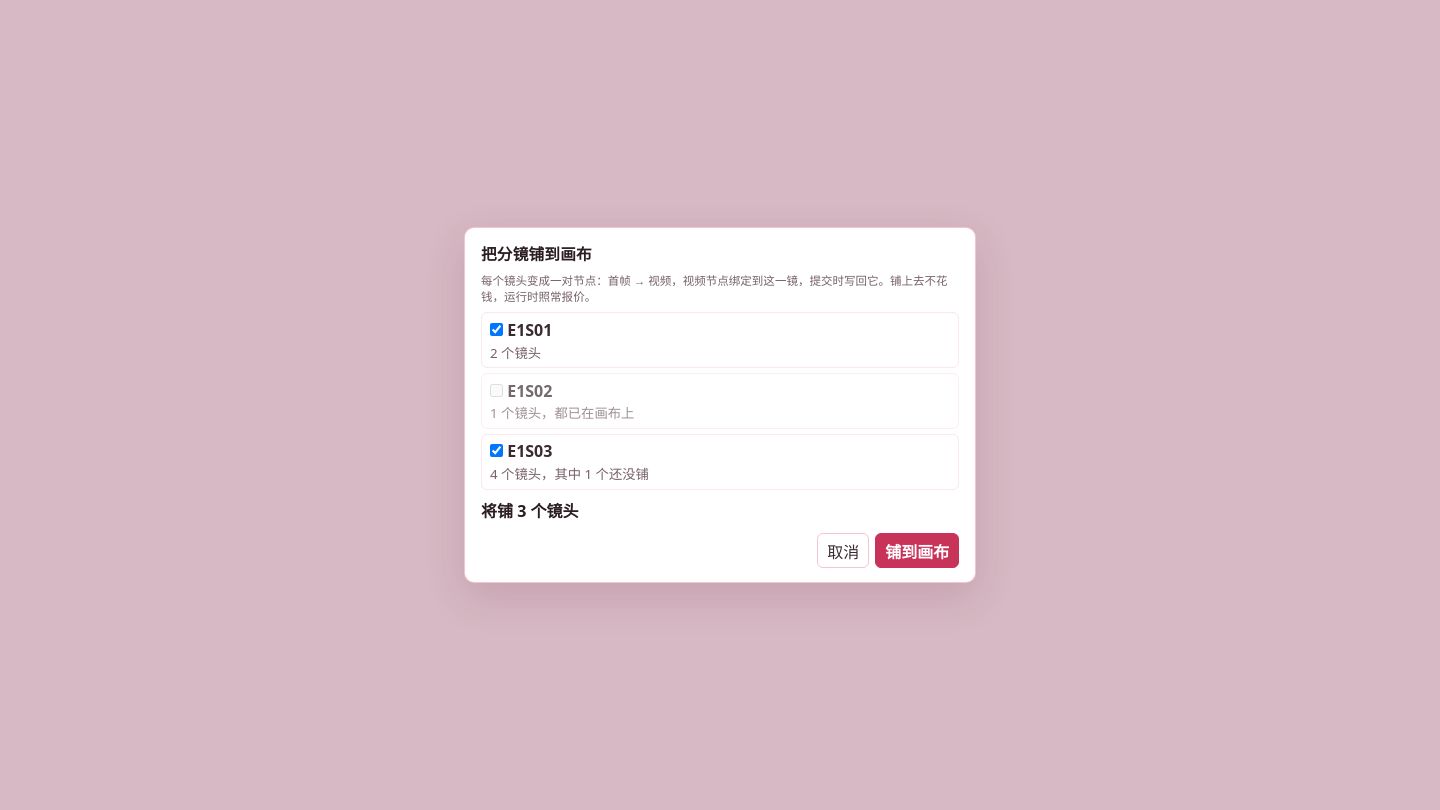
Test: laying the storyboard out on the canvas › lists the scenes, picks the ones with shots still to lay out, and applies on the saved version
This screenshot has width=1440, height=810.
Check: the text "E1S01" is shown, box x1=507 y1=319 x2=552 y2=341
Check: the text "1 个镜头，都已在画布上" is shown, box x1=490 y1=404 x2=634 y2=422
What coordinates should you click on to do the following:
click the checkbox labelled "E1S03"
I would click on:
 (496, 451)
Its box is x1=490 y1=444 x2=503 y2=457.
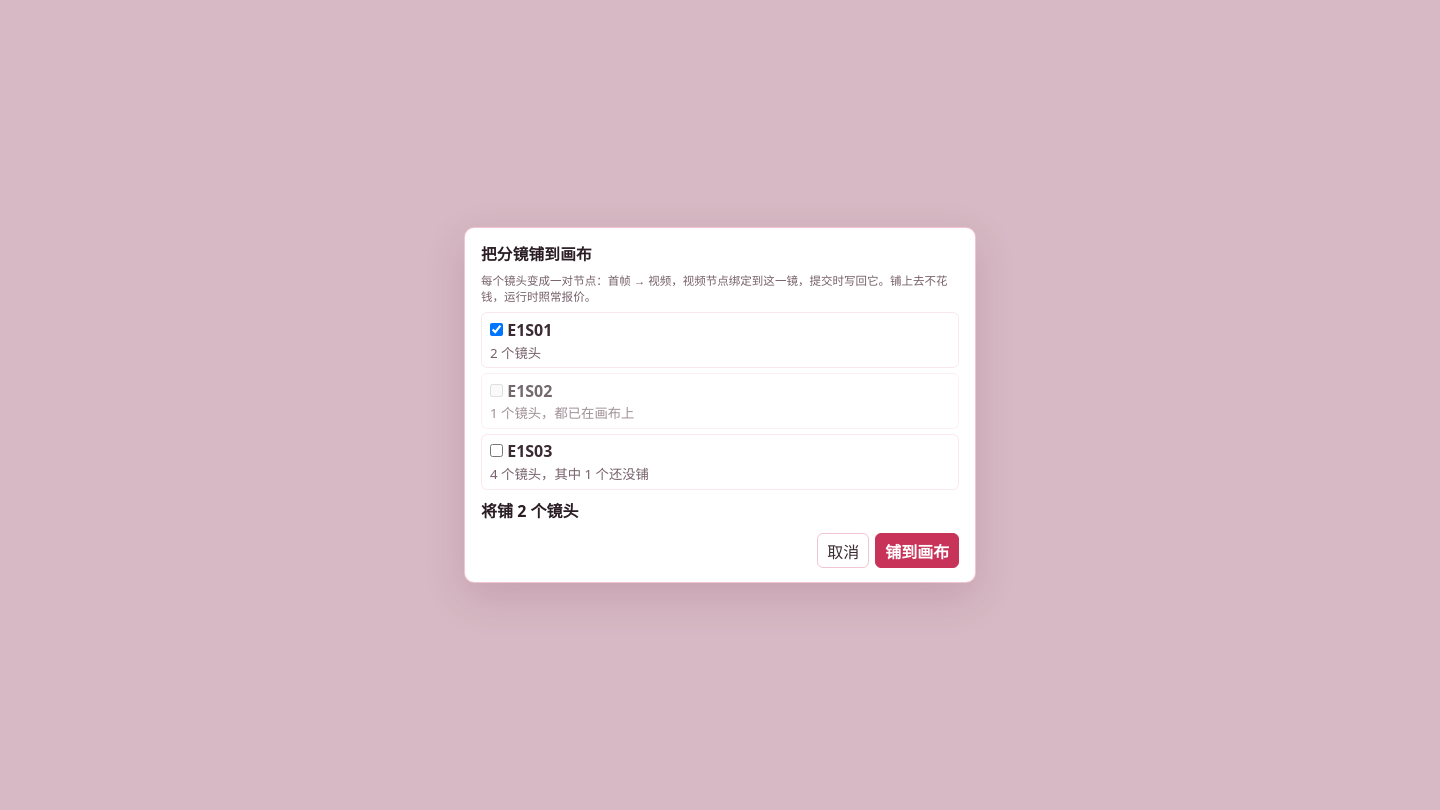
Check: the text "将铺 2 个镜头" is shown, box x1=481 y1=500 x2=578 y2=522
What coordinates should you click on to do the following:
click the button "铺到画布"
I would click on:
 (917, 551)
Its box is x1=875 y1=533 x2=959 y2=568.
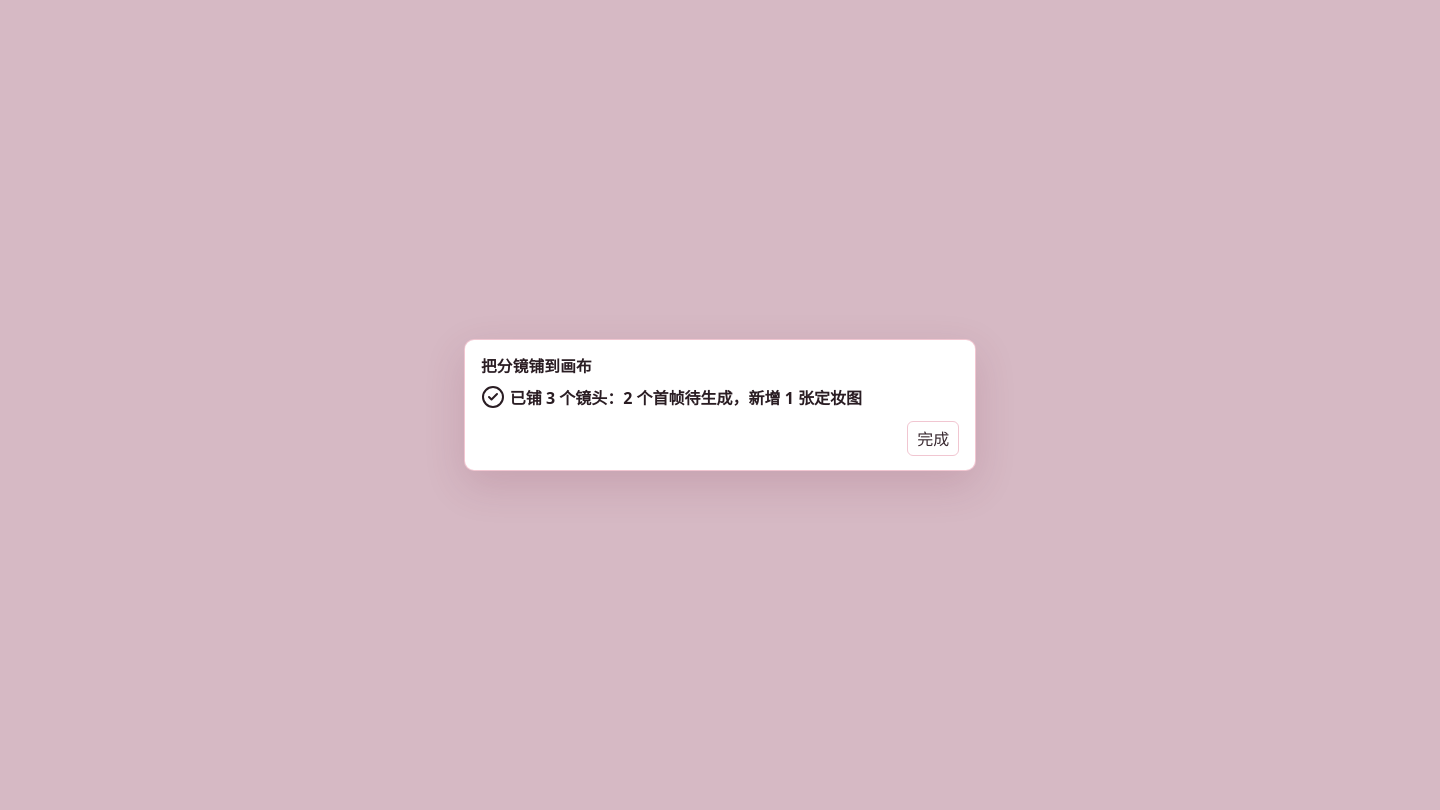
Check: the text "已铺 3 个镜头：2 个首帧待生成，新增 1 张定妆图" is shown, box x1=481 y1=385 x2=862 y2=409
Check: the button "完成" is shown, box x1=907 y1=421 x2=959 y2=456
